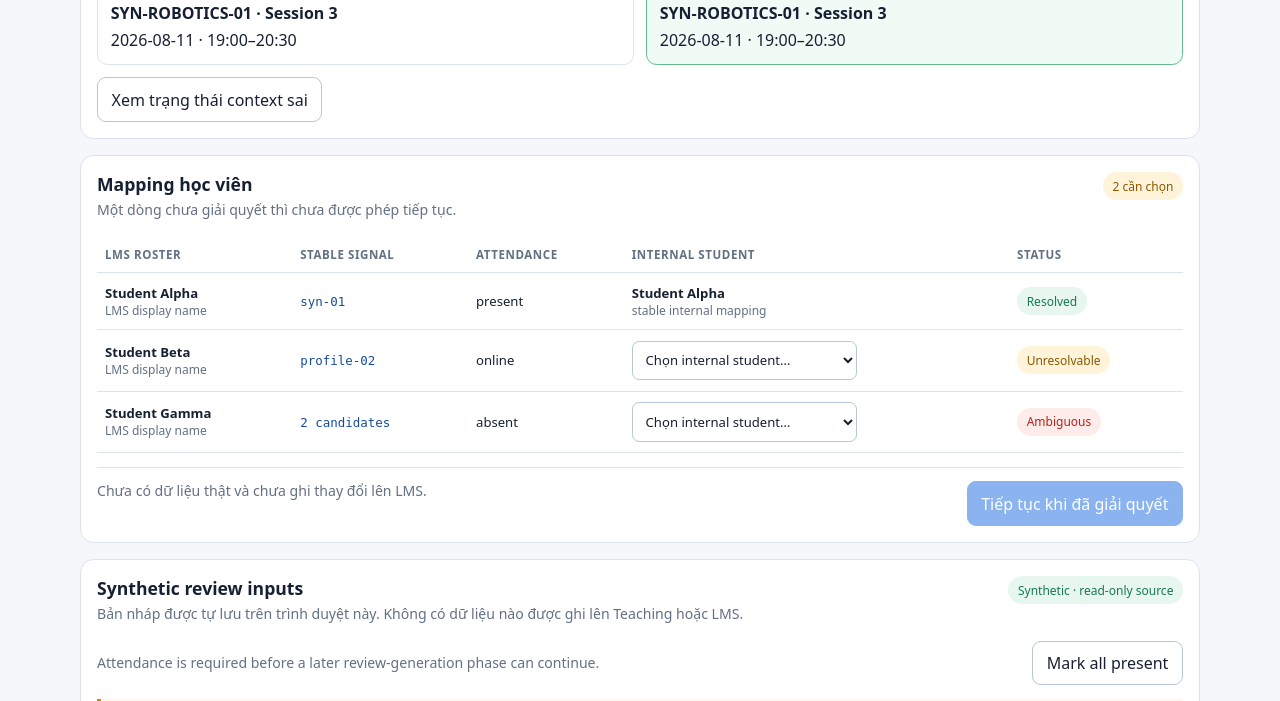
Bootstrap shell › requires explicit mapping before the review can continue
(page scrolled)
Expected: the button "Tiếp tục khi đã giải quyết" is disabled, [967, 481, 1183, 526]
Step 1. Select "Student Beta · internal-002" in the dropdown named "student beta" → point(745, 360), box [632, 341, 857, 380]
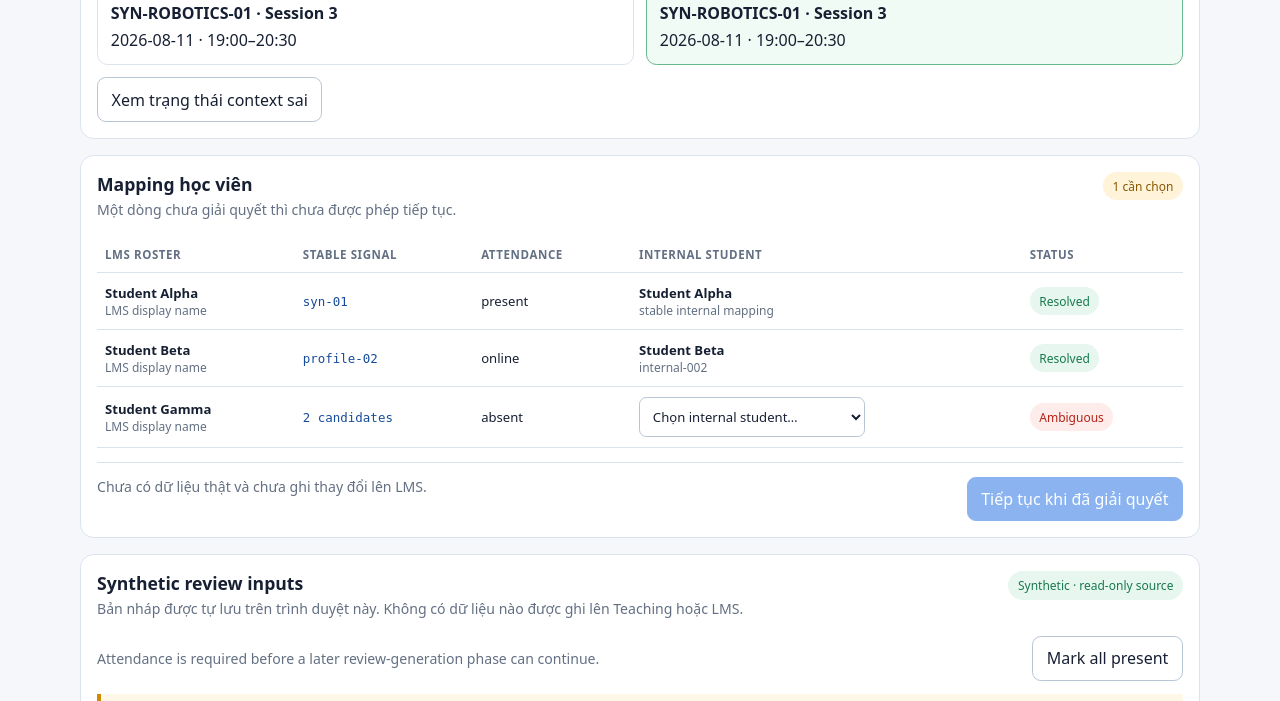
Step 2. Select "Student Gamma · internal-003" in the dropdown named "student gamma" → point(752, 417), box [639, 397, 865, 437]
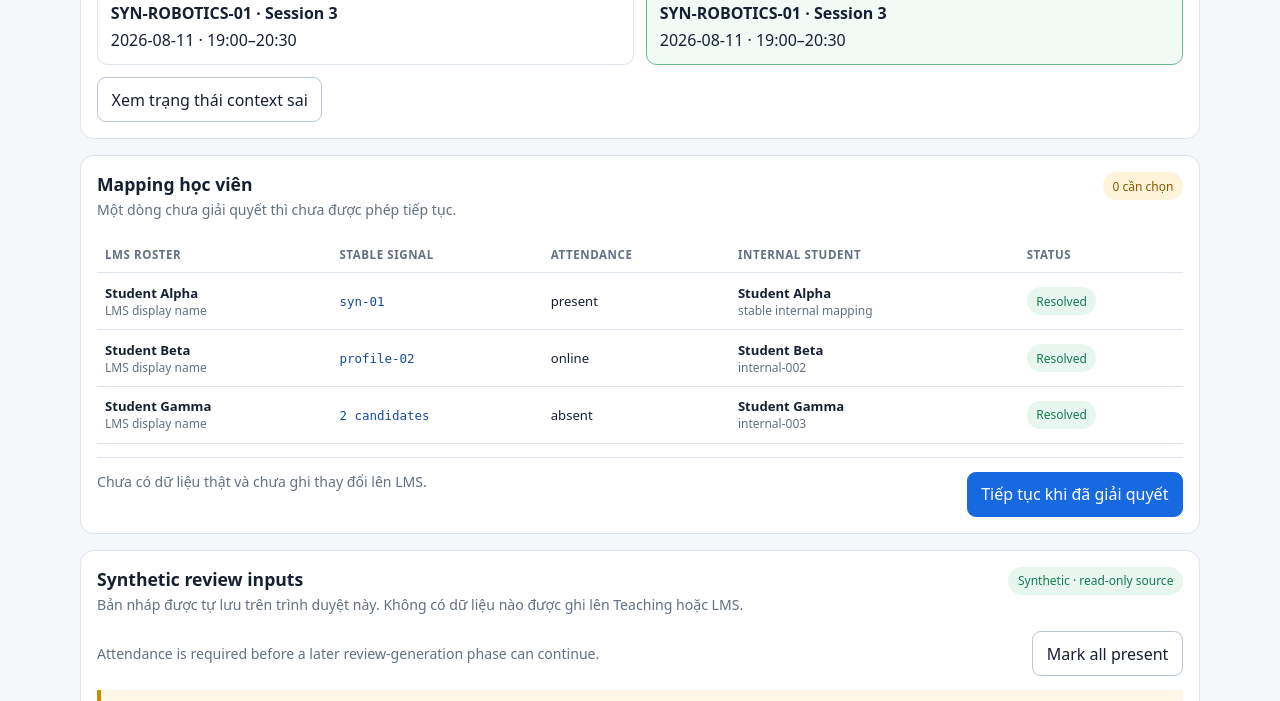
Expected: the button "Tiếp tục khi đã giải quyết" is enabled, [967, 472, 1183, 517]
